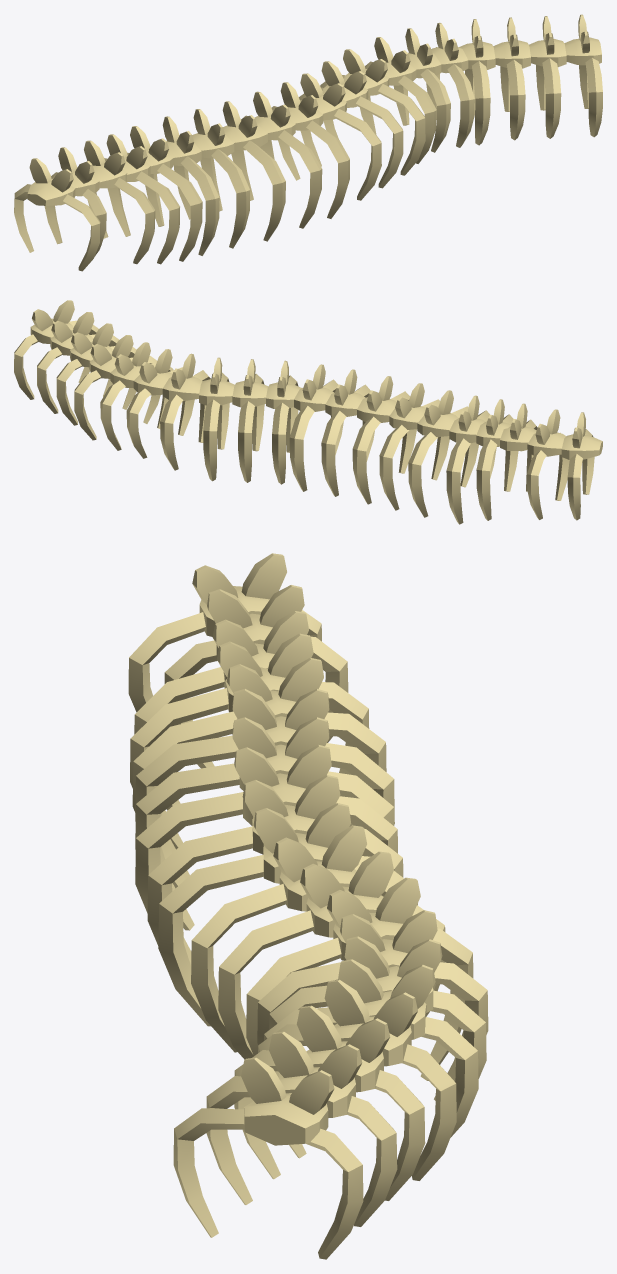
Rendered from LeviathenBody3.fbx.
The picture shows the model from 3 angles, top to bottom: view 1: azimuth 30°, elevation 25°; view 2: azimuth 150°, elevation 25°; view 3: azimuth 270°, elevation 25°; orthographic projection. The views are drawn at different scales.
Parts seen in each view (by area): view 1: Leviathen-2.001; view 2: Leviathen-2.001; view 3: Leviathen-2.001.
Boxes of the visible parts, x1=… form: Leviathen-2.001: x1=14, y1=14, x2=602, y2=271; Leviathen-2.001: x1=14, y1=300, x2=602, y2=524; Leviathen-2.001: x1=128, y1=553, x2=488, y2=1259.
Bounding box in the file's own units: 5414 × 1018 × 1507.
